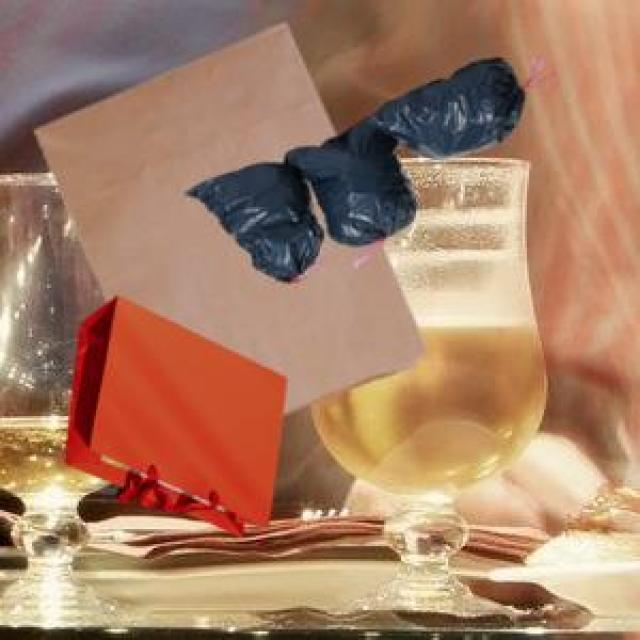miscellaneous trash: (181, 53, 521, 277)
paper: (32, 19, 422, 410), (62, 292, 282, 533)
